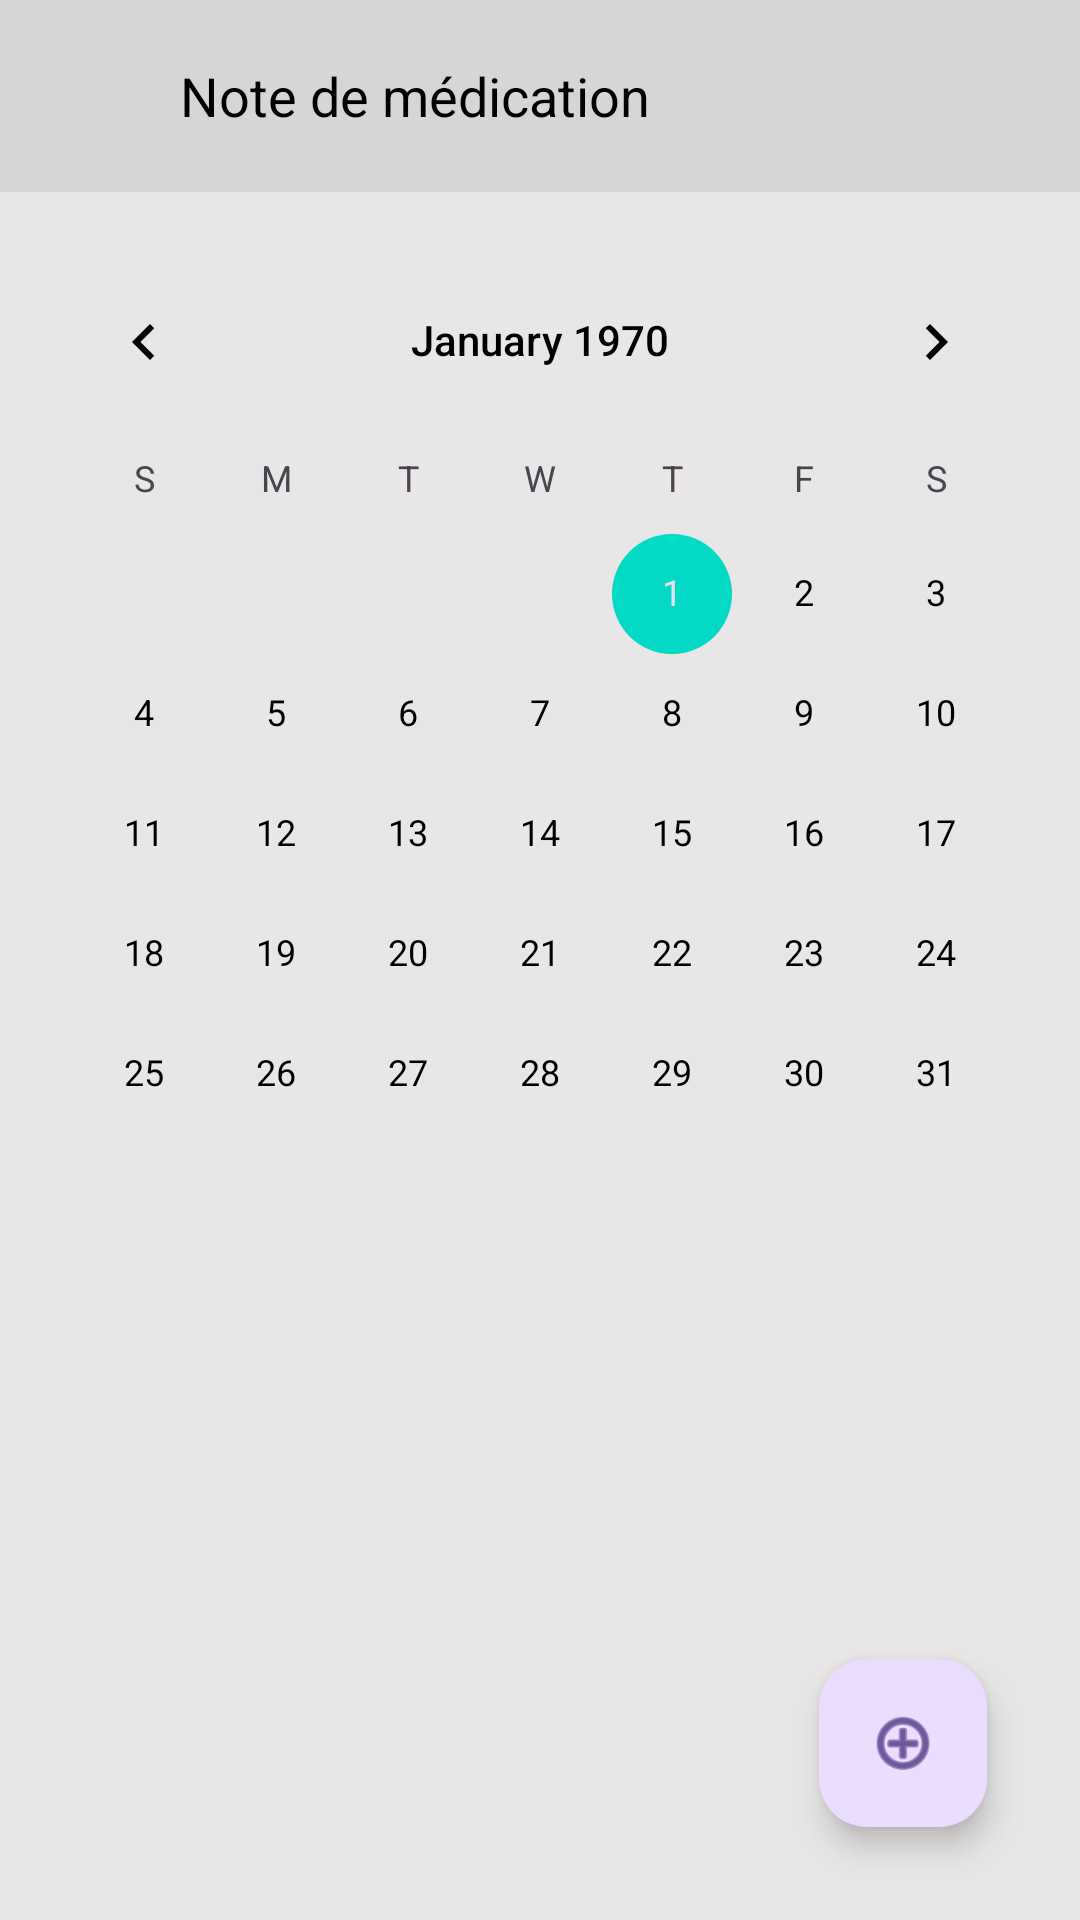

Point at icon controls on the screen. Image size 1080px×1920px, points as (x,y).
add: (903,1743)
